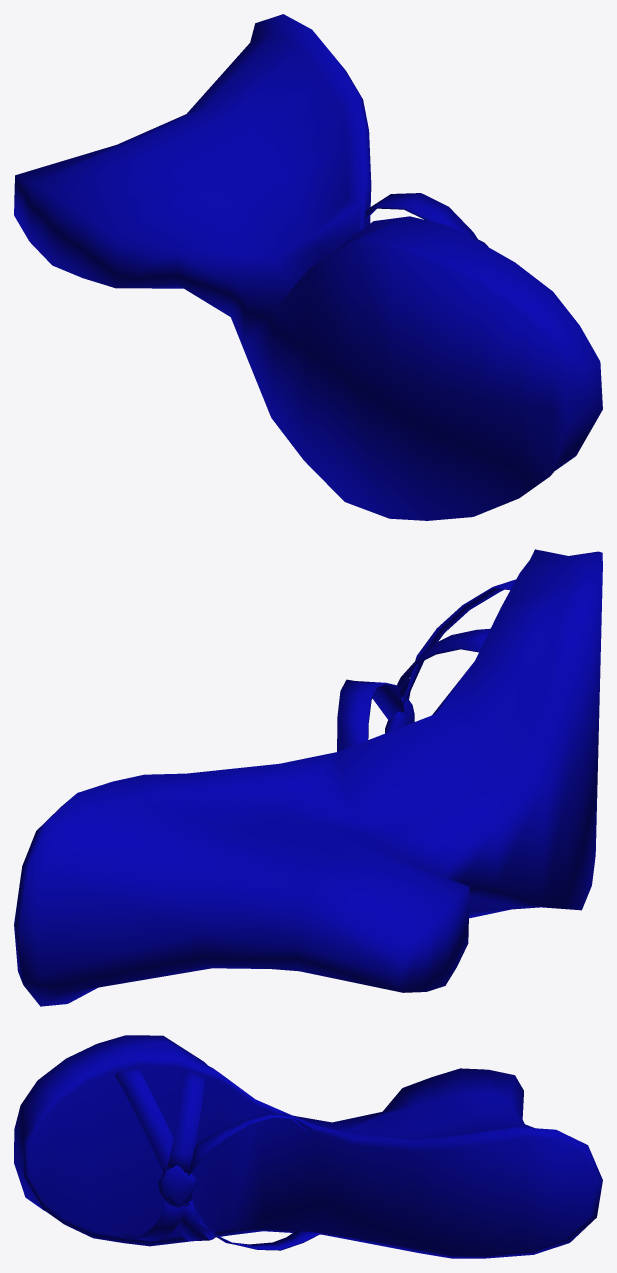
Rendered from shoe3_2.dae.
The picture shows the model from 3 angles, top to bottom: view 1: azimuth 30°, elevation 25°; view 2: azimuth 150°, elevation 25°; view 3: azimuth 270°, elevation 25°; orthographic projection. The views are drawn at different scales.
Parts seen in each view (by area): view 1: shoe3; view 2: shoe3; view 3: shoe3.
Part boxes in pixels (x1=…): shoe3: x1=14, y1=14, x2=602, y2=520; shoe3: x1=14, y1=549, x2=602, y2=1006; shoe3: x1=14, y1=1035, x2=602, y2=1258.
Bounding box in the file's own units: 0.1426 × 0.3367 × 0.1204.
